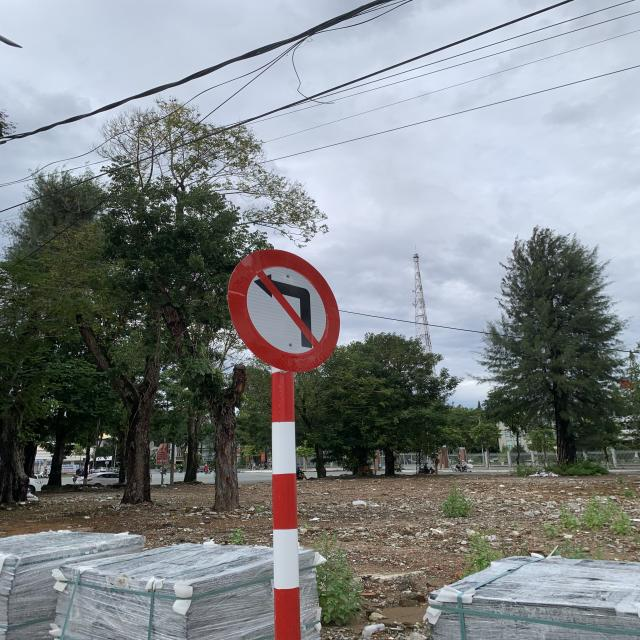Cam_Re_Trai: (228, 250, 341, 370)
